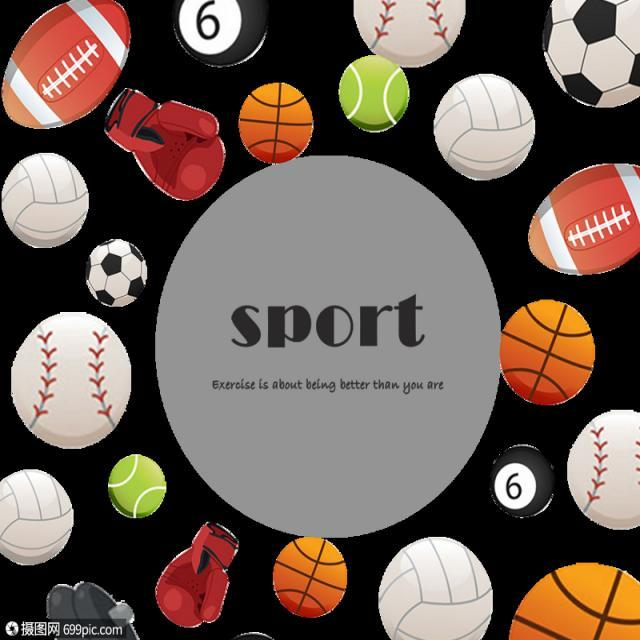rim: (507, 562, 640, 640), (502, 300, 596, 406), (238, 84, 314, 165), (274, 535, 348, 617)
